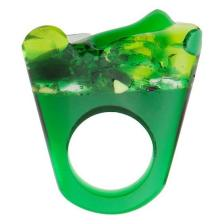green: (22, 10, 203, 214)
